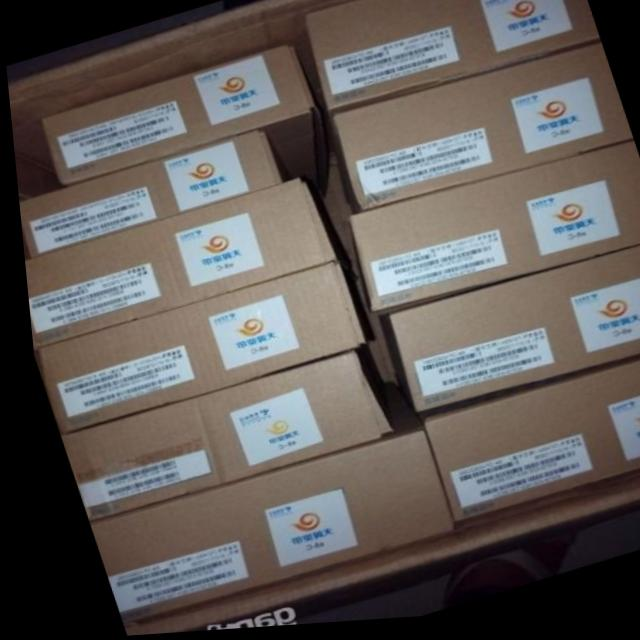box: (6, 0, 640, 637), (80, 435, 445, 622), (26, 261, 358, 434), (53, 354, 386, 520), (19, 180, 331, 348), (330, 47, 630, 217), (345, 148, 640, 315), (36, 50, 320, 210), (370, 252, 640, 416), (410, 356, 640, 529), (301, 0, 597, 112), (15, 129, 275, 254), (318, 162, 354, 280), (349, 281, 385, 388)
